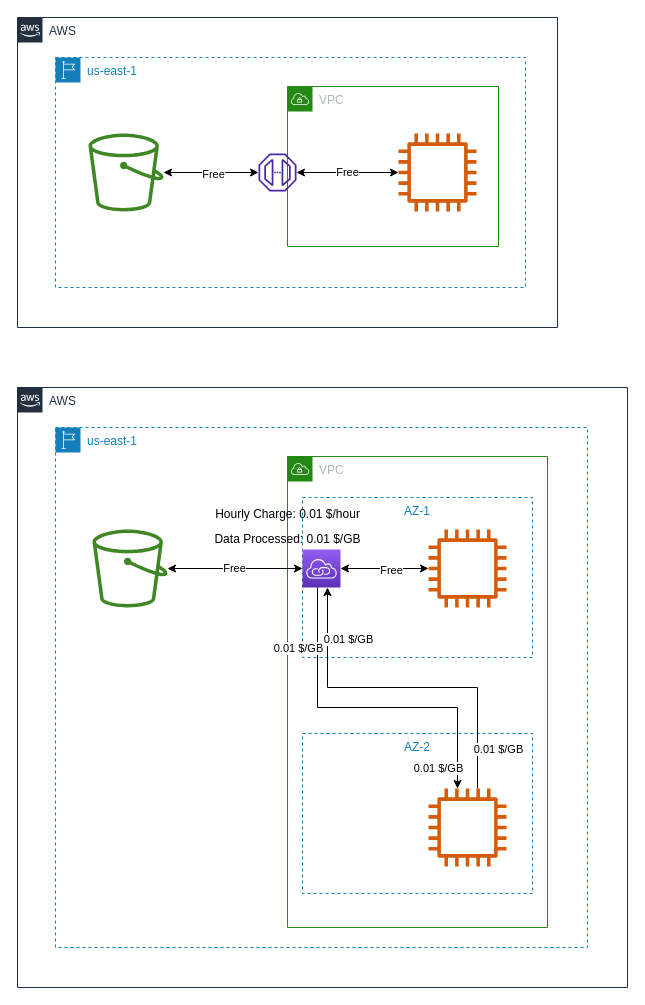
This 645x1005 diagram has some shape labels left out. Here are the shapes that lost their labels. From the top down, the centre of each, then its label:
(277,172): Gateway Endpoint
(321,568): Interface Endpoint
(467,568): Instance-1
(467,827): instance-2
